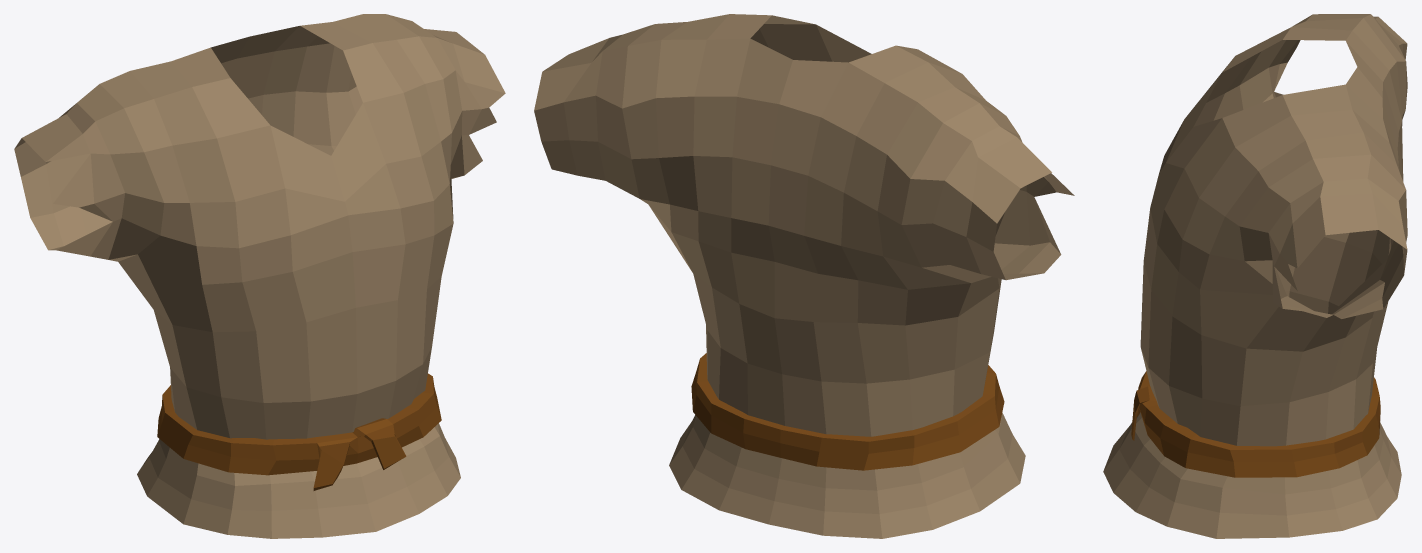
File: Icon.fbx
3 views of the same model, side by side, from view 1: azimuth 30°, elevation 25°; view 2: azimuth 150°, elevation 25°; view 3: azimuth 270°, elevation 25° (orthographic). The views are drawn at different scales.
Visible parts, largest first — view 1: Body_Chest.005; view 2: Body_Chest.005; view 3: Body_Chest.005.
Boxes of the visible parts, x1=… form: Body_Chest.005: x1=14, y1=14, x2=505, y2=538; Body_Chest.005: x1=534, y1=14, x2=1074, y2=538; Body_Chest.005: x1=1103, y1=14, x2=1407, y2=538.
Size of the model in its own units: 70.19 by 60.82 by 40.68.
